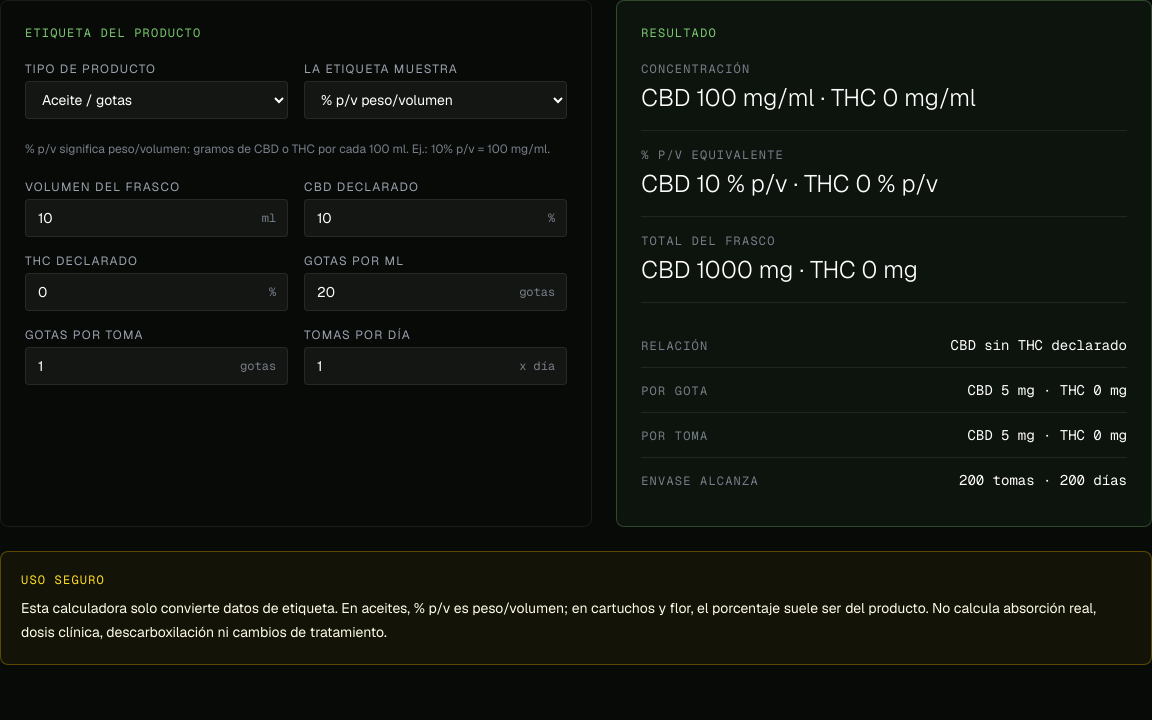
Test case: CannabinoidCalculator › permite cambiar a cálculo por inhalaciones
Select "Cartucho / extracto" in the dropdown labelled "Tipo de producto" at (157, 100), box [25,81,288,119]
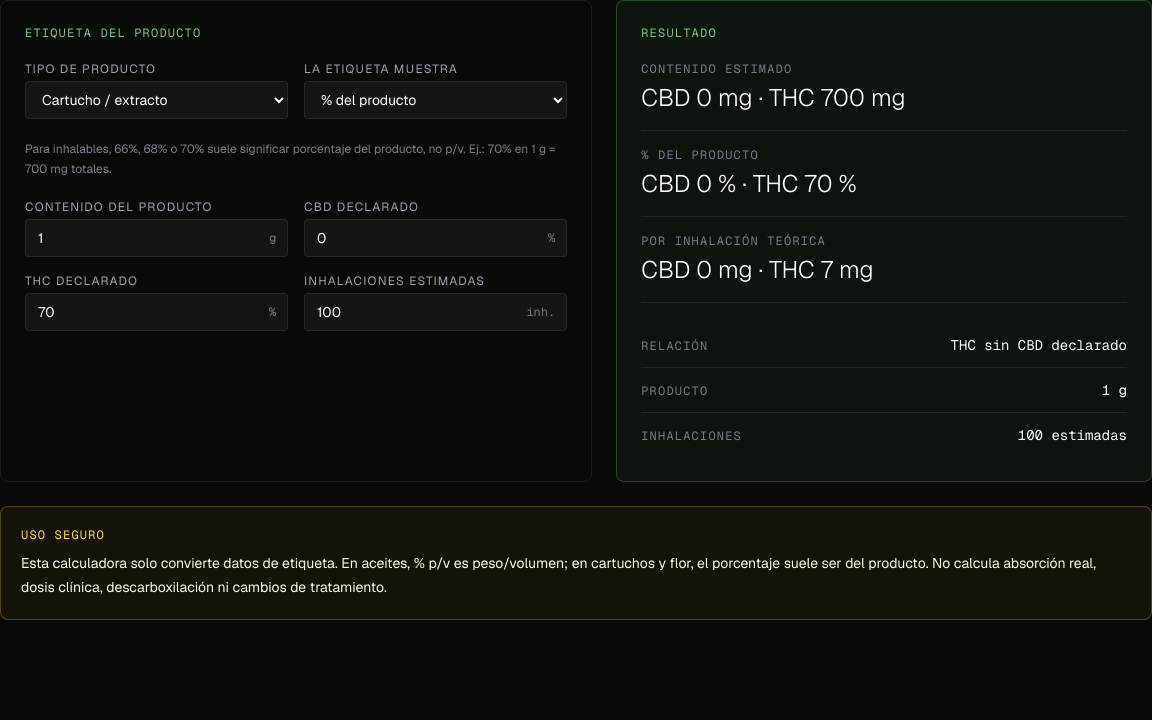
Expected: the text "Contenido estimado" is shown, [641,61,792,77]
Expected: the text "Por inhalación teórica" is shown, [641,233,826,249]
Expected: the text "CBD 0 mg · THC 700 mg" is shown, [641,82,906,113]
